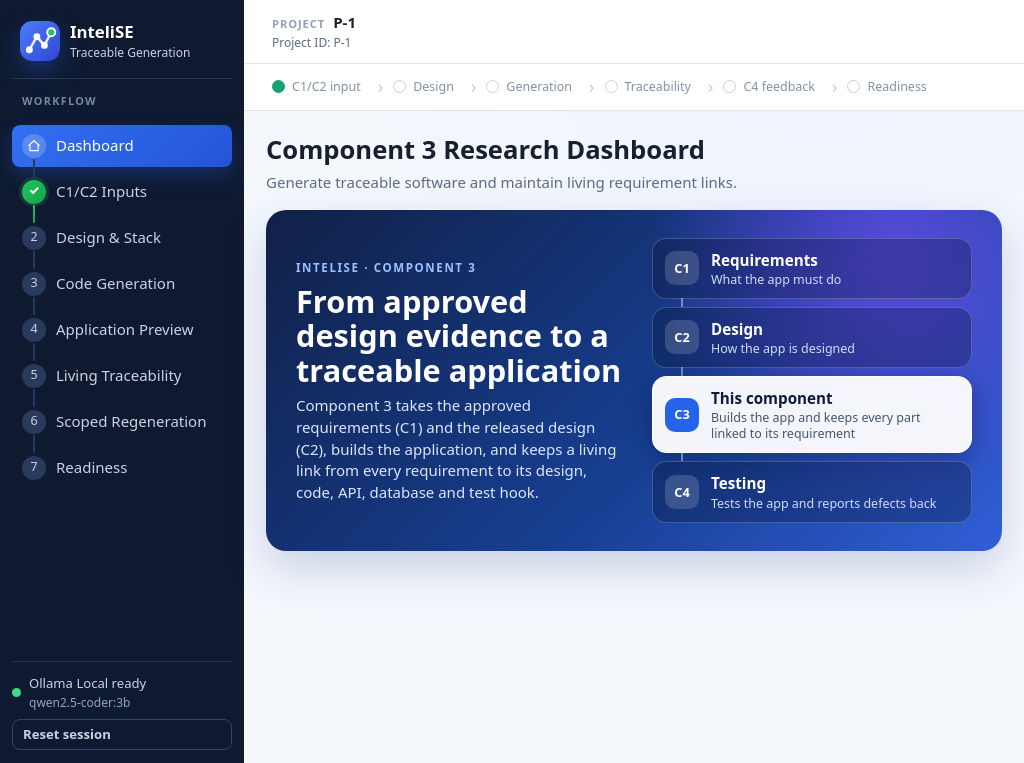
Scenario: Design coverage card › shows a human-readable design error without transport details
Click the button "2 Design & Stack": {"x": 122, "y": 238} [12, 216, 232, 258]
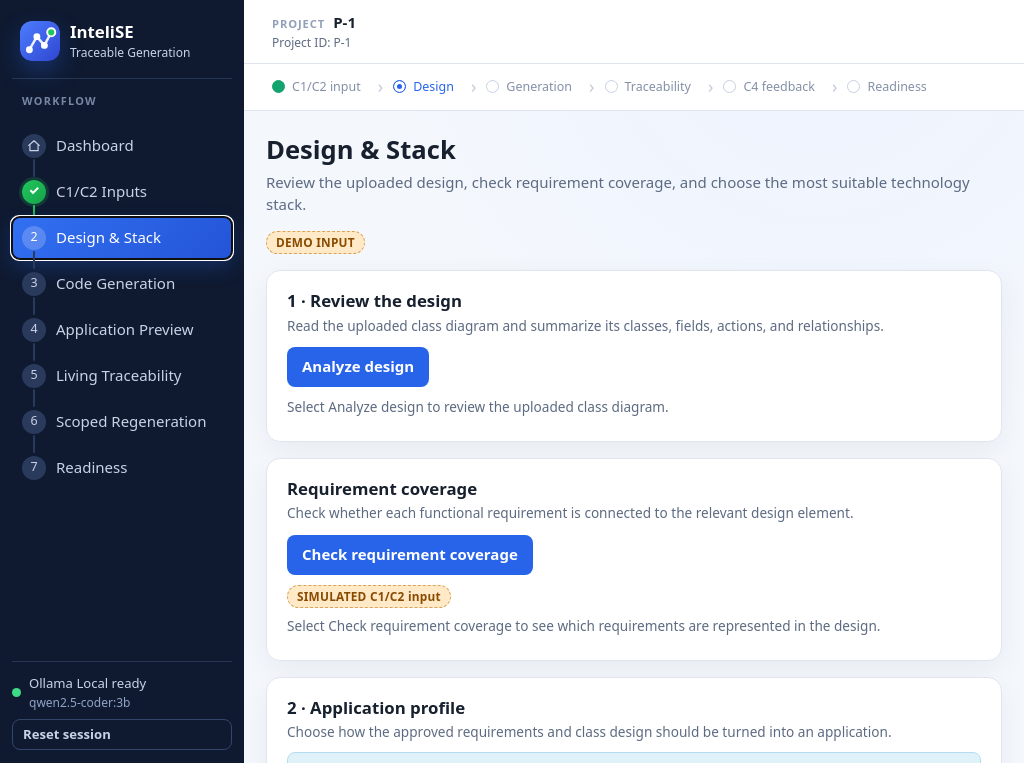
Click the button "Check requirement coverage": {"x": 410, "y": 555} [287, 535, 533, 575]
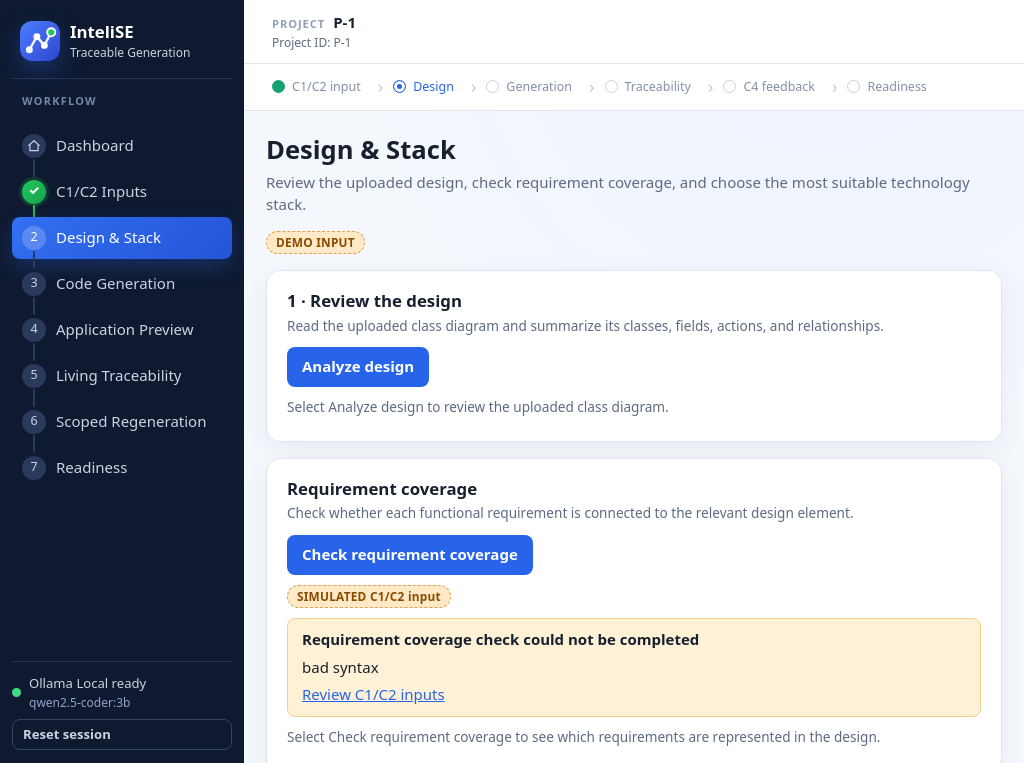
Expected: the element with test id "error-panel" does not show "UNSUPPORTED_PLANTUML_CONSTRUCT", [302, 657, 445, 706]
Expected: the element with test id "error-panel" shows "bad syntax", [302, 657, 379, 677]
